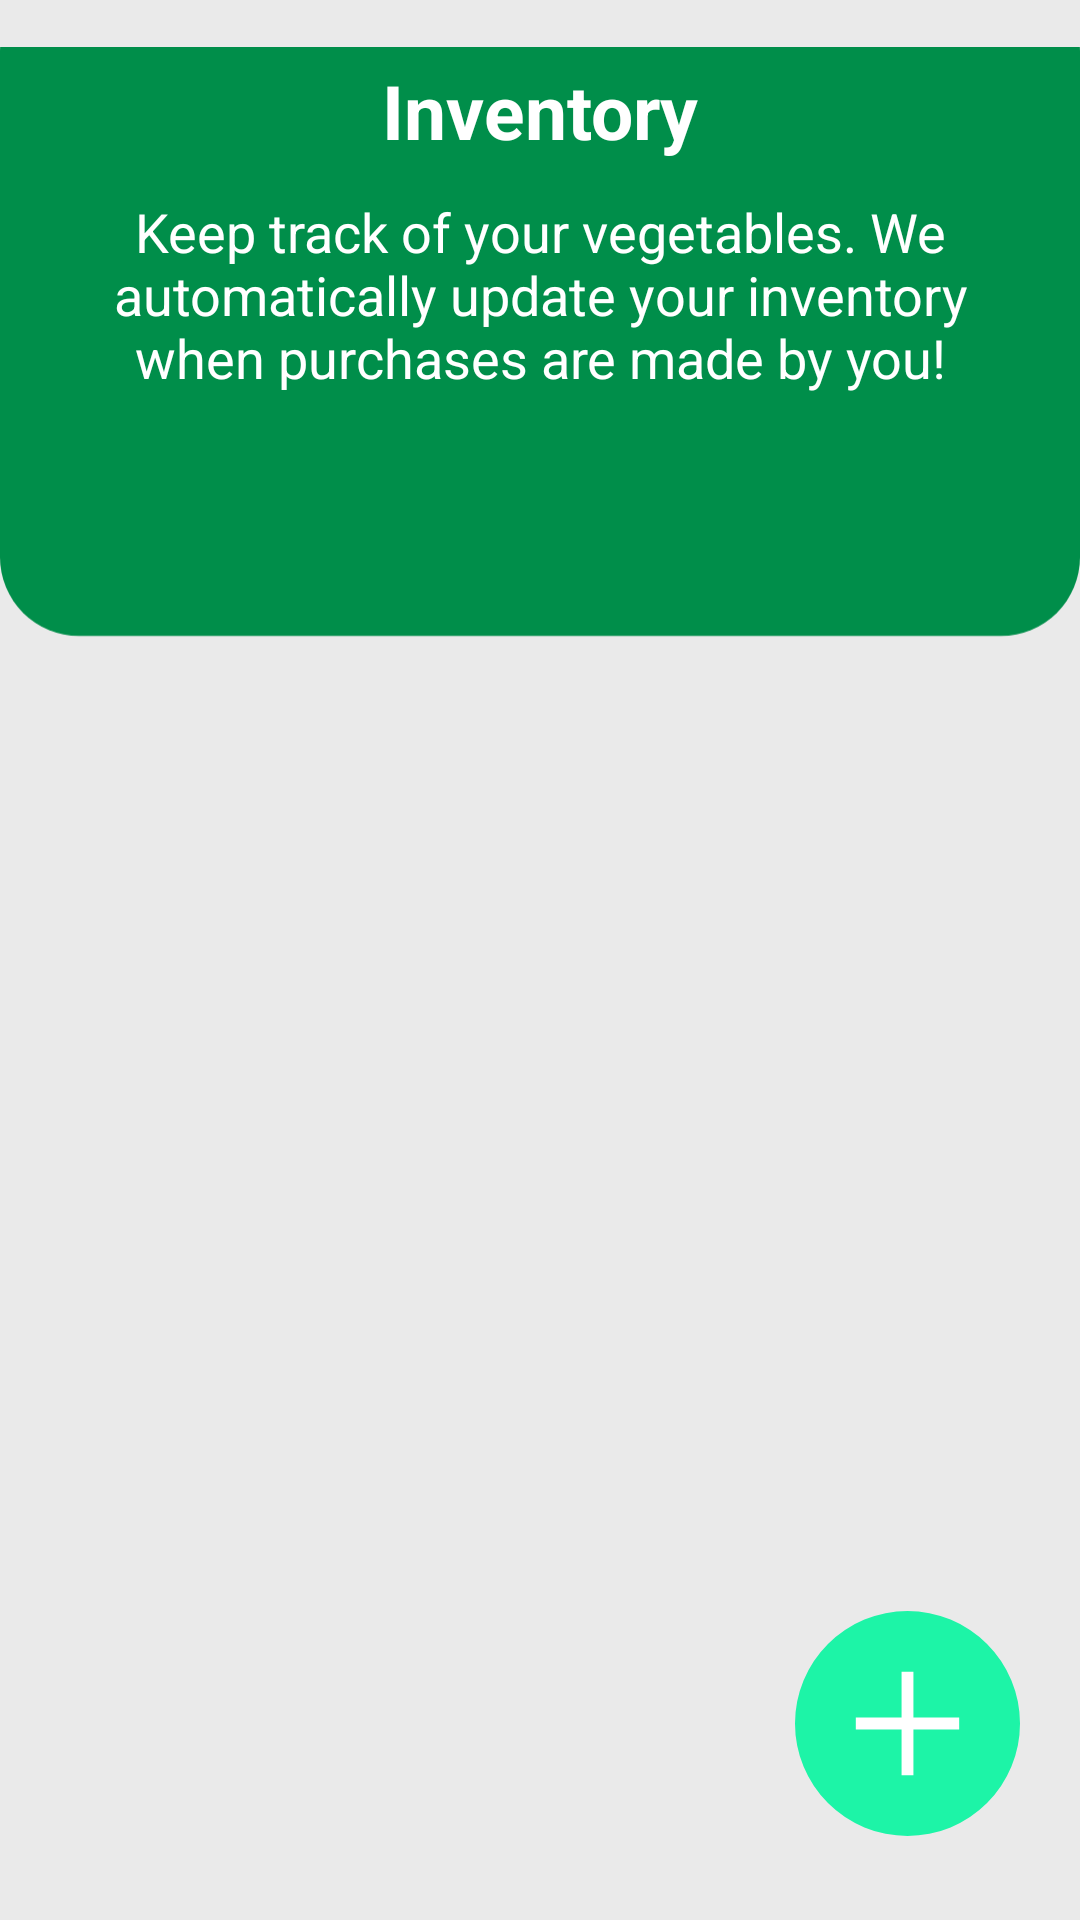

Locate icon controls on the screen. Image size 1080×1920, boxes as (x1, y1, x2, y2).
plus: (795, 1611, 1020, 1836)
